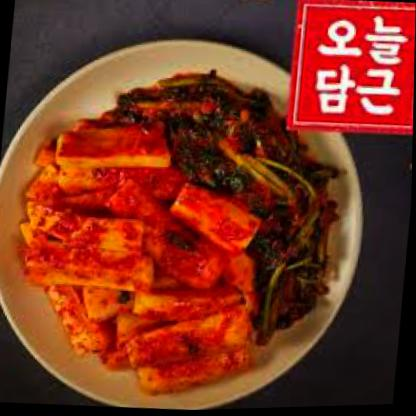chonggak Kimchi: (16, 75, 330, 398)
